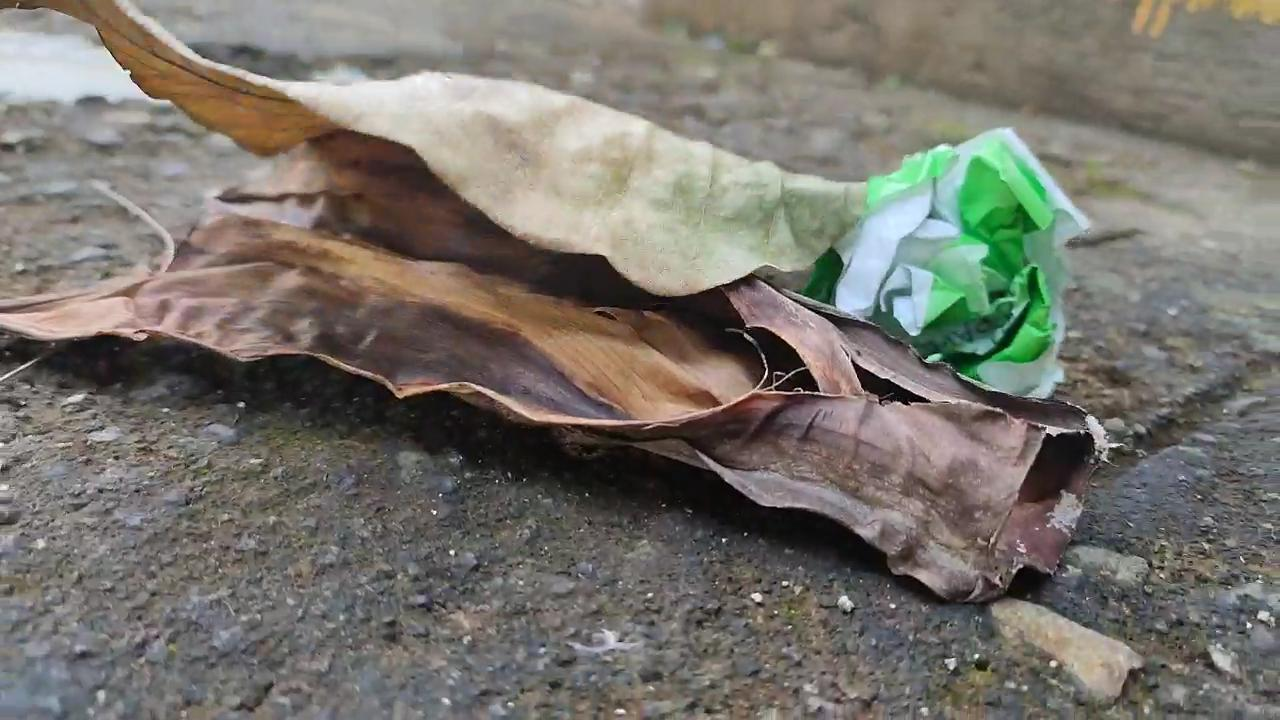Paper: (825, 126, 1084, 400)
